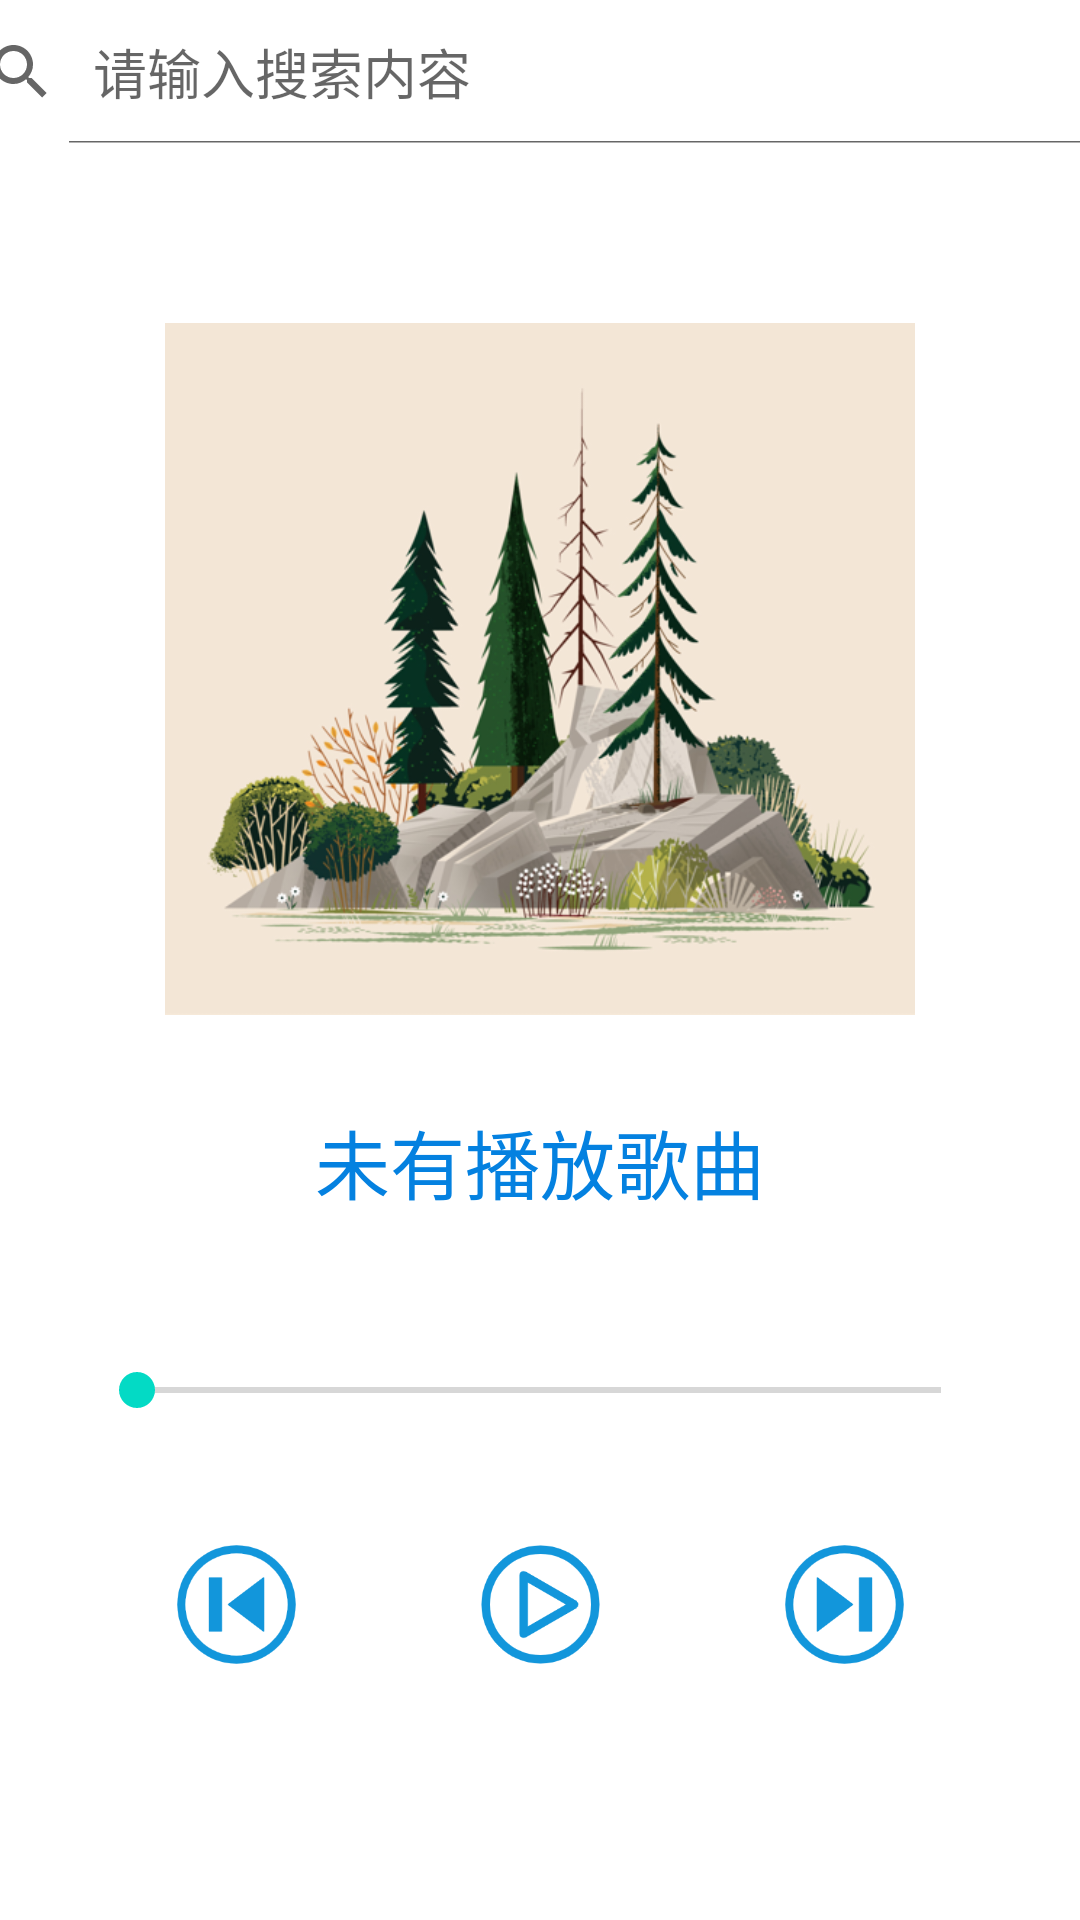

Icons on this 1080*1920 Android screen, each with the point to tap as [x,y]:
next song: [844,1604]
play: [540,1604]
prev song: [236,1604]
